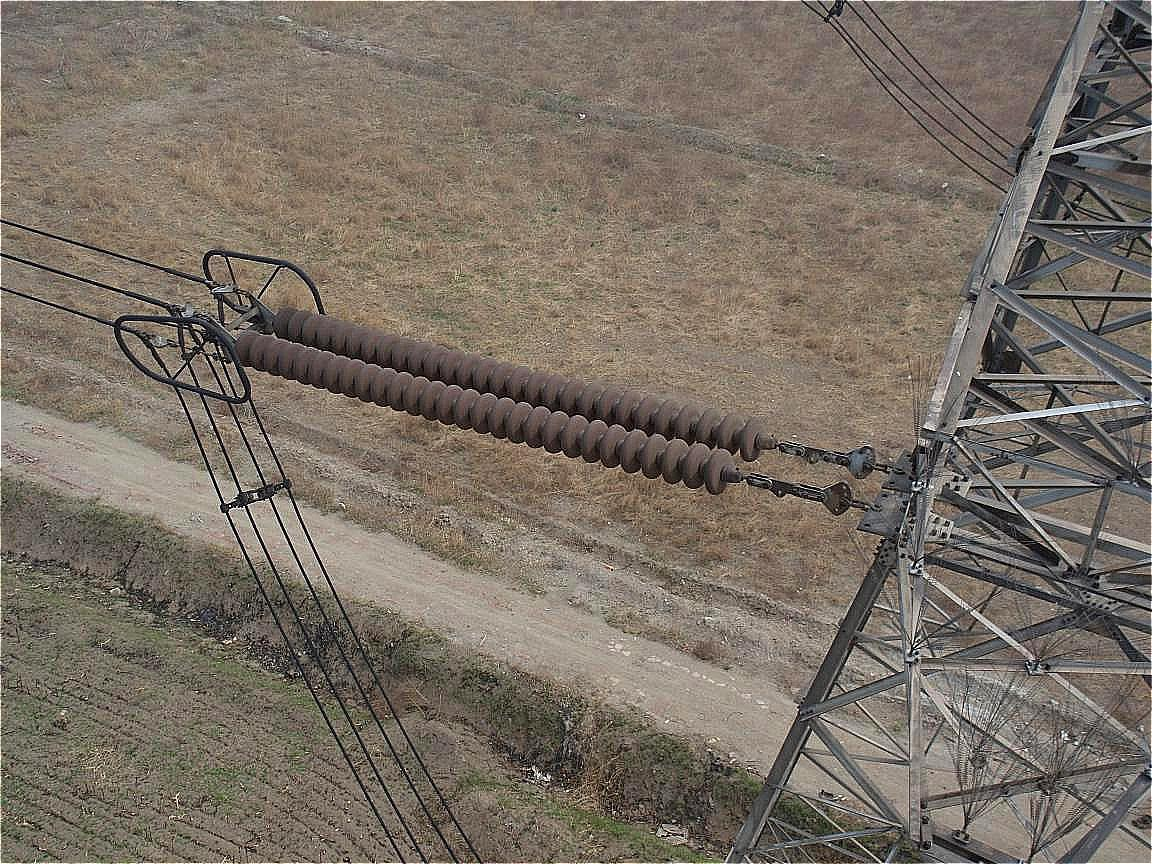insultor1: (213, 287, 776, 494)
